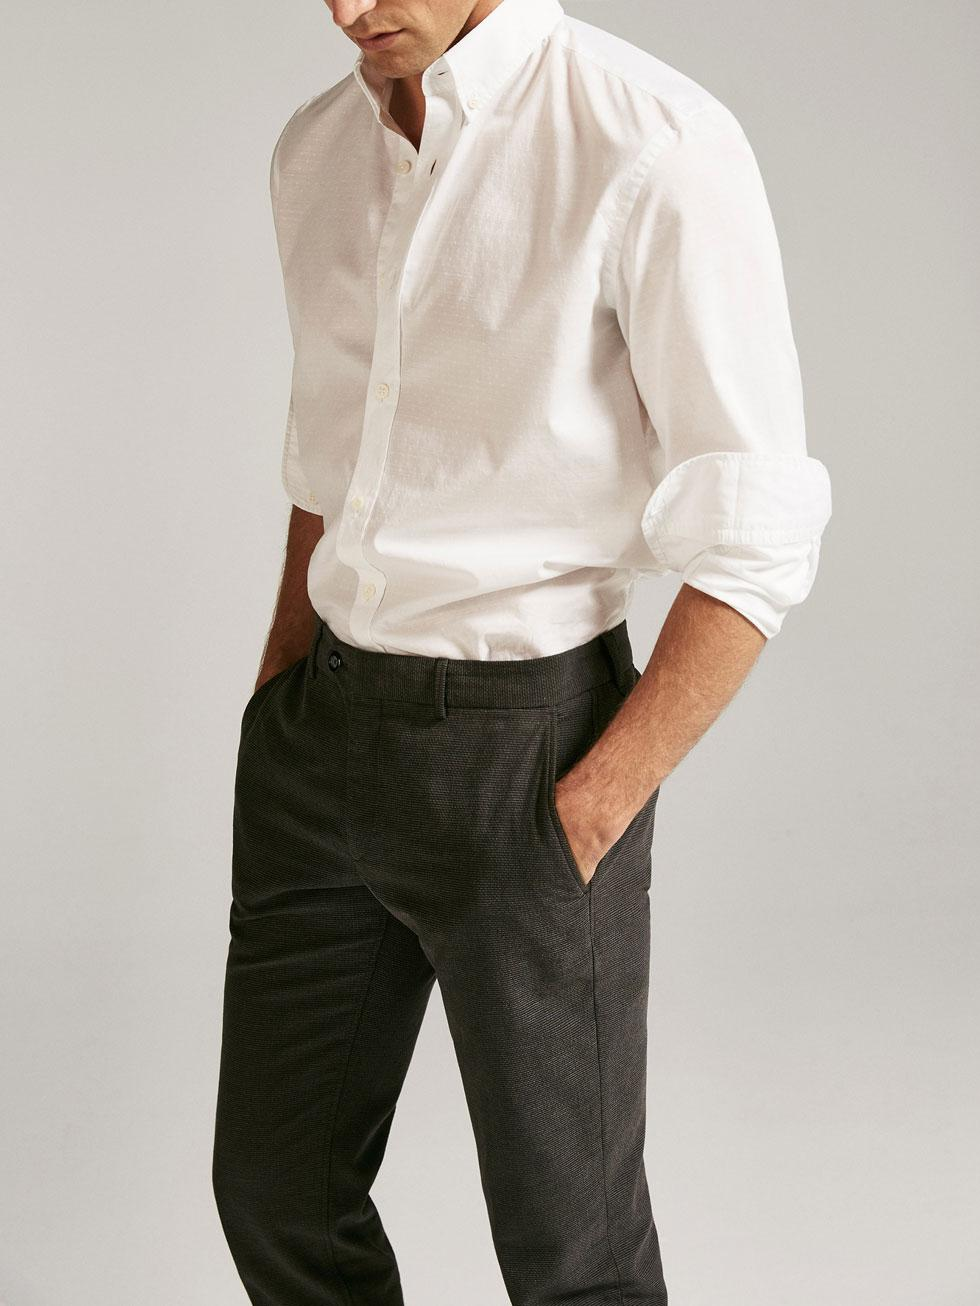teeshirt: (223, 3, 822, 717)
